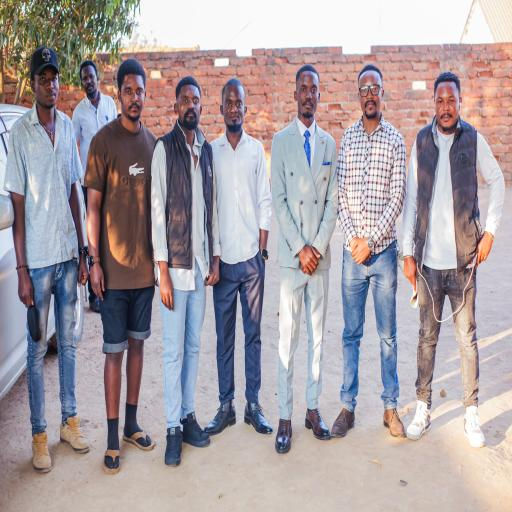MATTHIEU: (217, 75, 250, 141)
